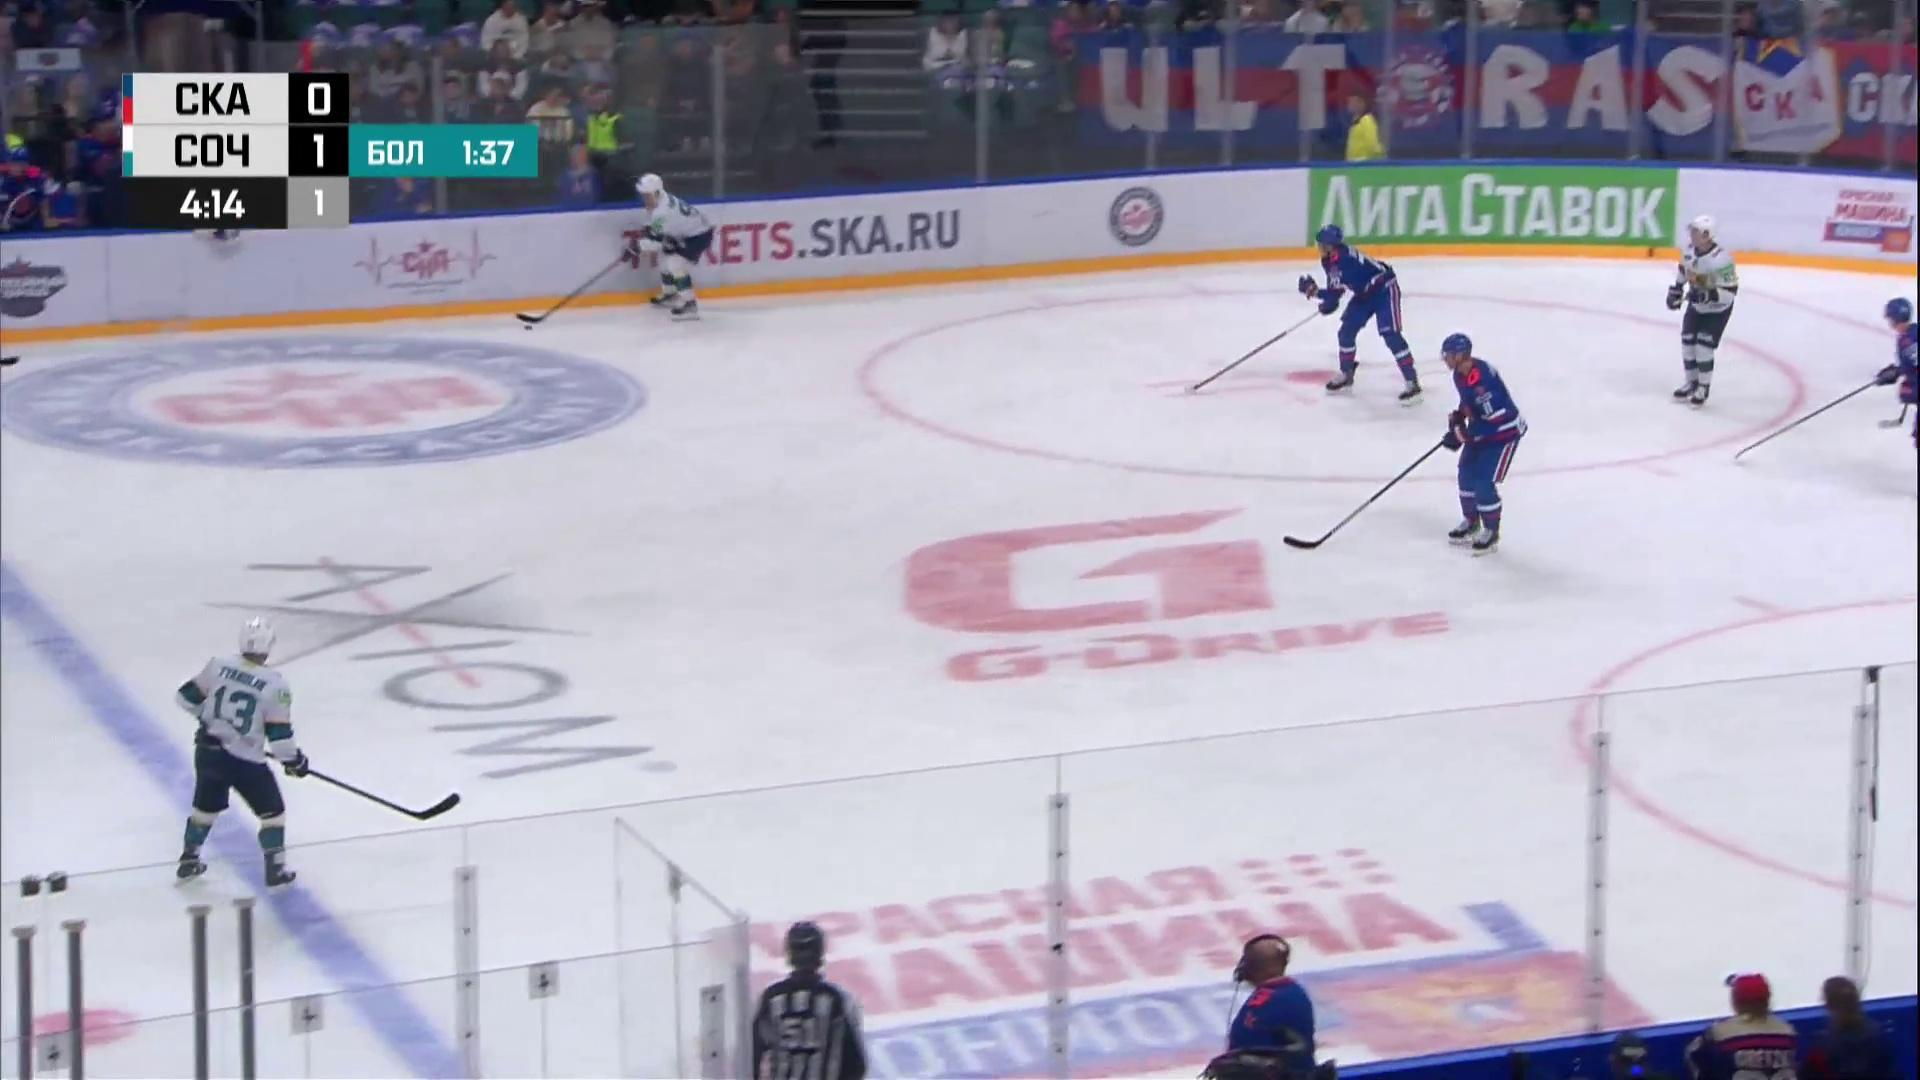ball: (524, 326, 533, 331)
